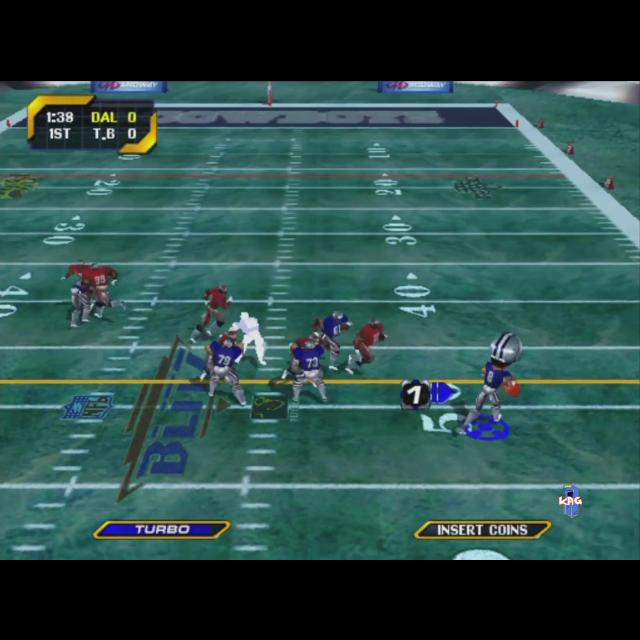player: (460, 329, 522, 437), (65, 259, 123, 327), (205, 331, 249, 407), (284, 332, 328, 402), (190, 284, 233, 344), (313, 310, 353, 372), (345, 318, 387, 376), (226, 310, 268, 366), (86, 261, 124, 317), (68, 274, 96, 328)
